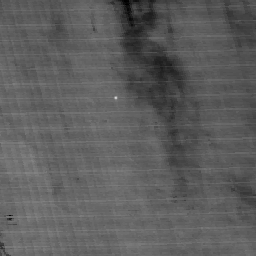Target: (112, 94, 120, 101)
